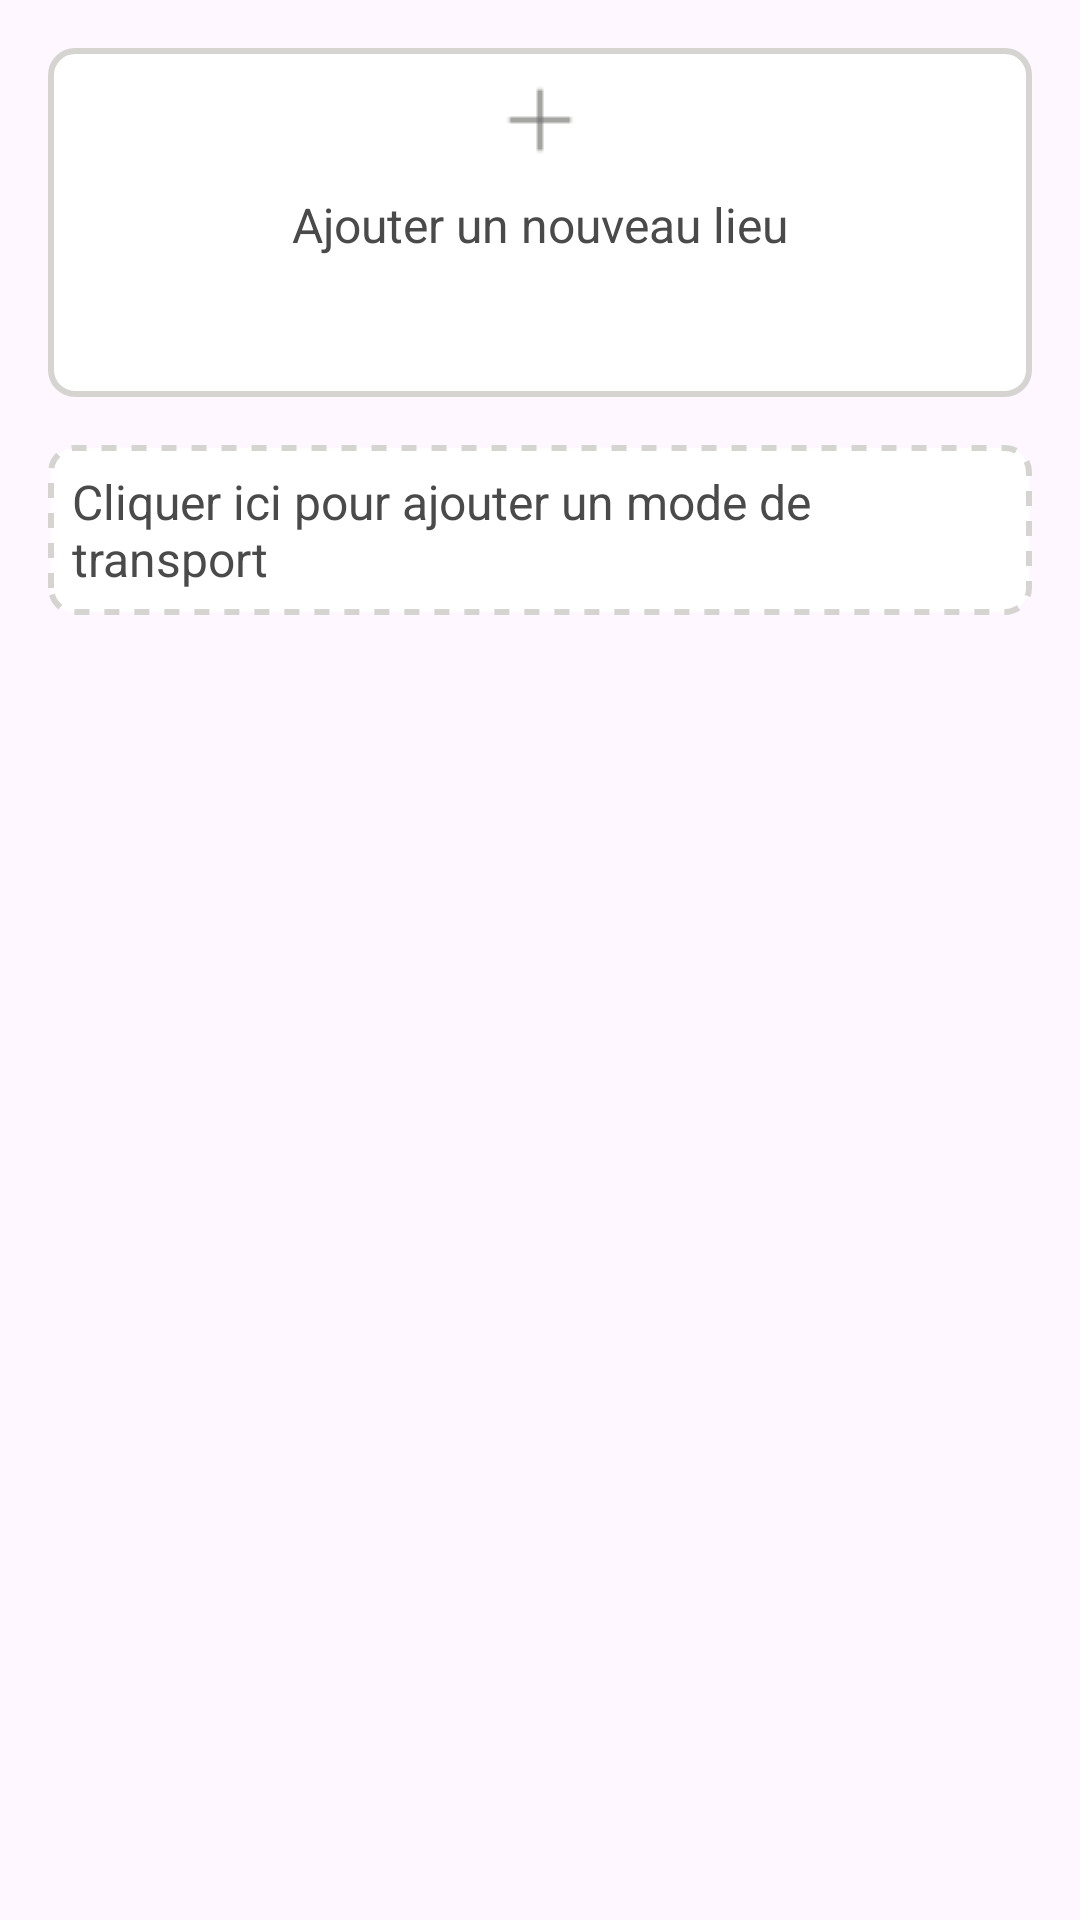

Locate icon controls on the screen. Image size 1080px×1920px, boxes as (x1, y1, x2, y2).
plus gris: (509, 89, 571, 151)
